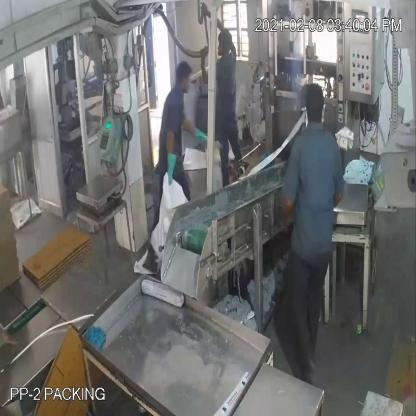glove: (163, 143, 180, 201), (192, 123, 218, 157)
no_glove: (277, 177, 296, 240)
